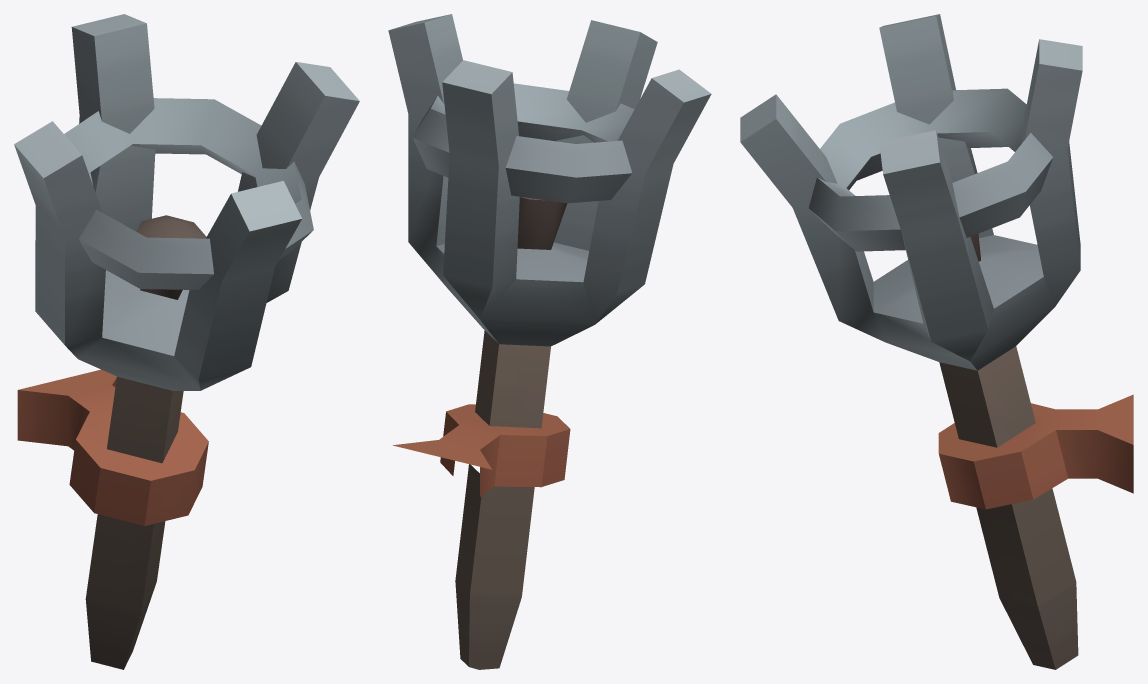
File: torch_mounted.glb
3 views of the same model, side by side, from view 1: azimuth 30°, elevation 25°; view 2: azimuth 150°, elevation 25°; view 3: azimuth 270°, elevation 25° (orthographic). The views are drawn at different scales.
Visible parts, largest first — view 1: torch_mounted; view 2: torch_mounted; view 3: torch_mounted.
Part boxes in pixels (x1,y1,x2,y2): torch_mounted: (14,14,359,669); torch_mounted: (388,14,711,669); torch_mounted: (740,14,1133,669).
Size of the model in its own units: 0.5503 by 1.06 by 0.6159.
Materials: 1 (1 with a texture image).
